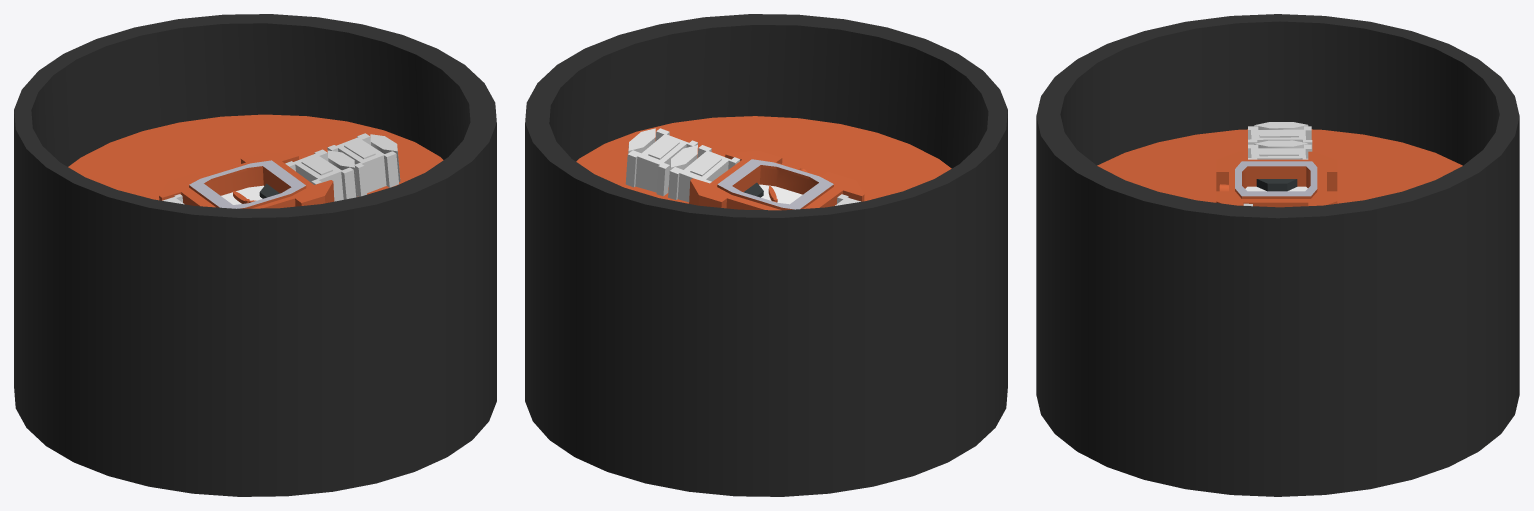
Rendered from fastrack_new.glb.
3 views of the same model, side by side, from view 1: azimuth 30°, elevation 25°; view 2: azimuth 150°, elevation 25°; view 3: azimuth 270°, elevation 25° (orthographic).
Visible parts, largest first — view 1: Cylinder.001, Cylinder; view 2: Cylinder.001, Cylinder; view 3: Cylinder.001, Cylinder.
Part boxes in pixels (x1,y1,x2,y2): Cylinder.001: (14, 14, 496, 496); Cylinder: (68, 114, 443, 208); Cylinder.001: (525, 14, 1007, 496); Cylinder: (576, 116, 951, 210); Cylinder.001: (1036, 14, 1519, 496); Cylinder: (1097, 122, 1462, 207).
Bounding box in the file's own units: 11 × 7 × 11.
